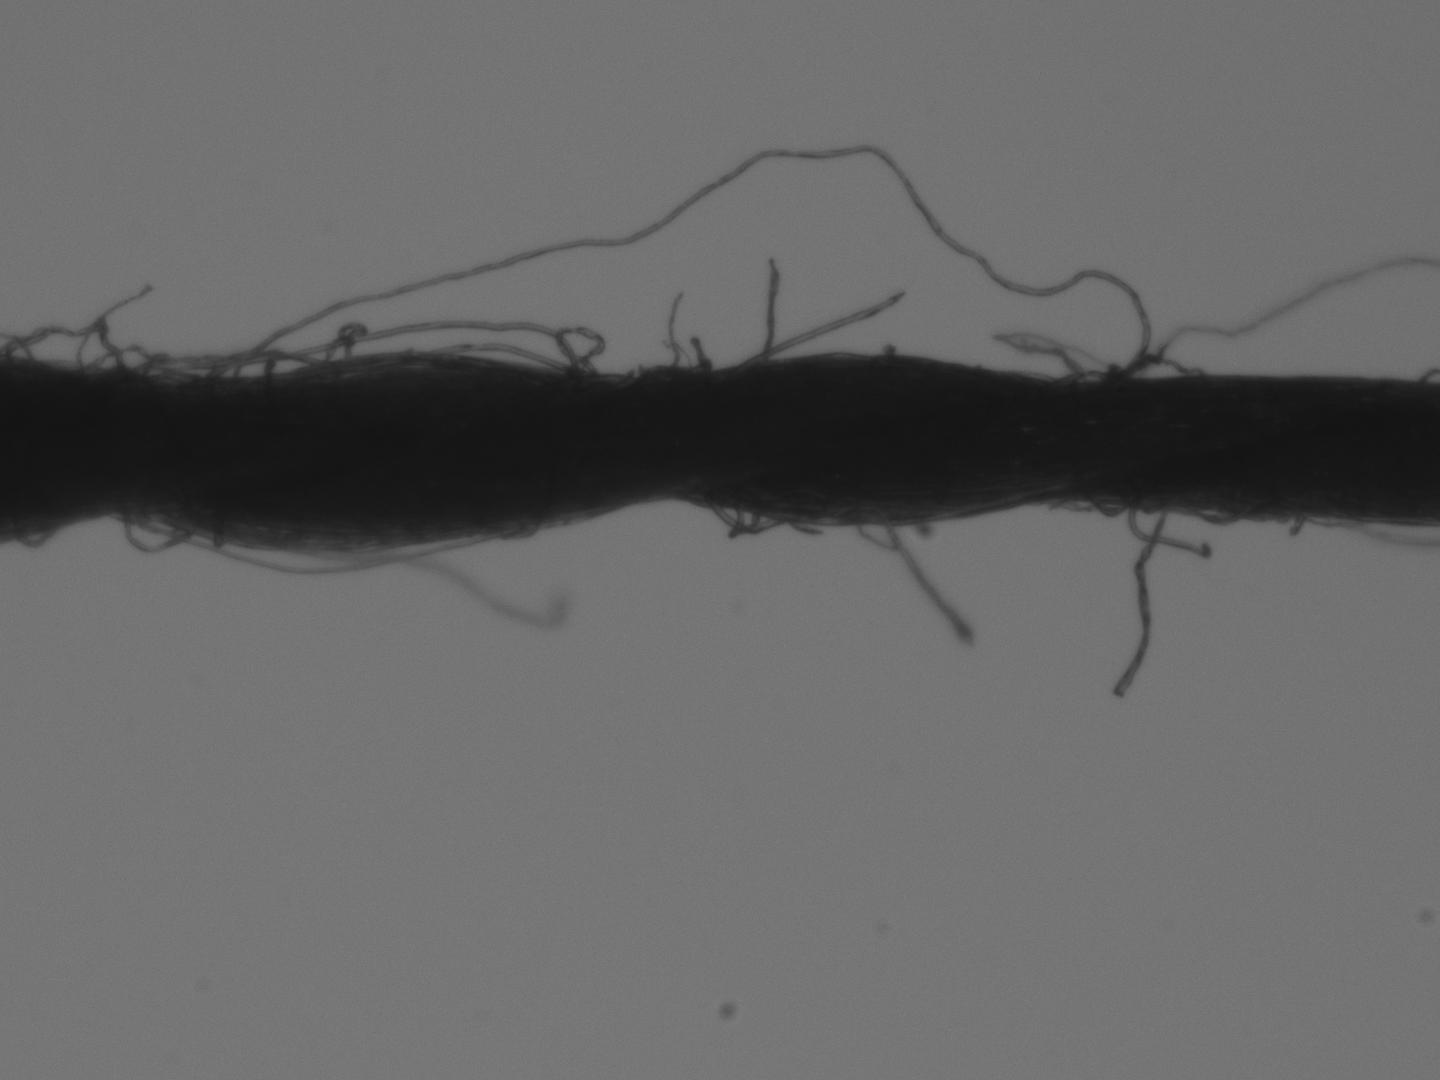loop_fiber: (227, 141, 1157, 381), (153, 321, 591, 370), (130, 518, 483, 575), (1, 317, 128, 372), (433, 341, 561, 372), (84, 344, 197, 374), (119, 508, 187, 555), (706, 504, 796, 538), (209, 355, 317, 380), (1117, 351, 1204, 380), (1075, 493, 1138, 520), (1191, 504, 1254, 525)
protruding_fiber: (739, 292, 909, 366), (879, 522, 972, 642), (1113, 508, 1166, 700), (765, 262, 780, 366)
